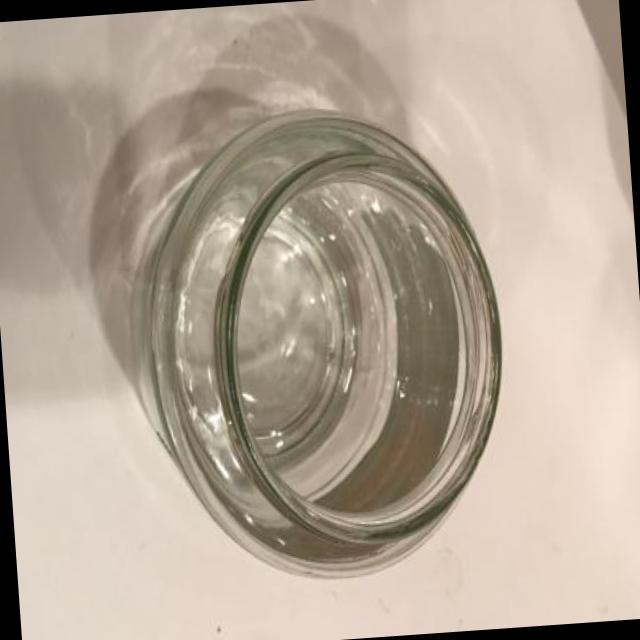chai_thuy_tinh: (84, 4, 505, 581), (145, 109, 503, 577)
